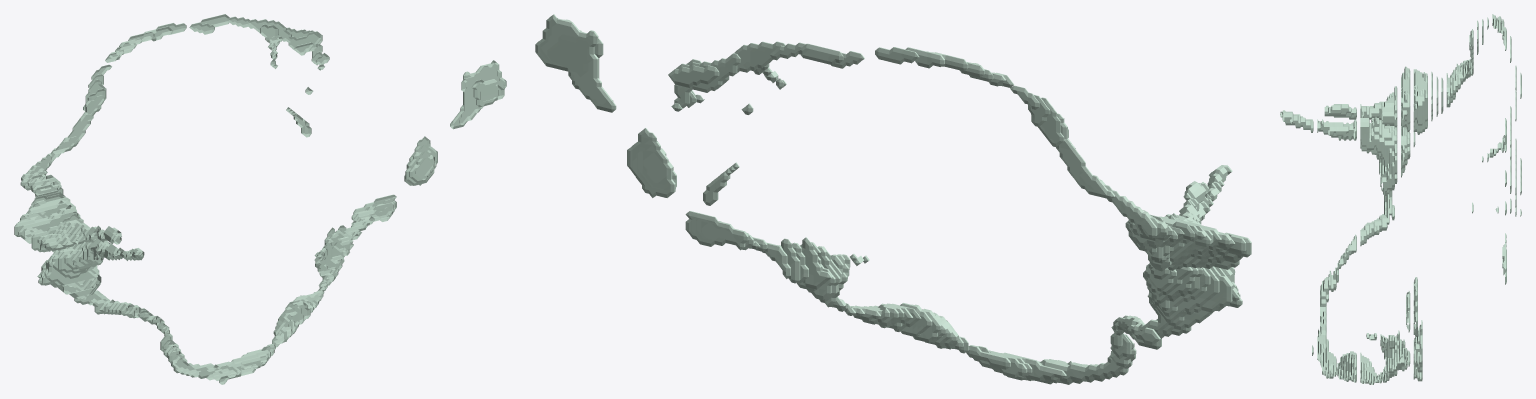
File: SVV_RMER.gltf
3 views of the same model, side by side, from view 1: azimuth 30°, elevation 25°; view 2: azimuth 150°, elevation 25°; view 3: azimuth 270°, elevation 25° (orthographic). The views are drawn at different scales.
Parts seen in each view (by area): view 1: RMER; view 2: RMER; view 3: RMER.
Part boxes in pixels (bbox=[...]): RMER: bbox=[14, 14, 506, 384]; RMER: bbox=[535, 14, 1251, 384]; RMER: bbox=[1280, 14, 1521, 384].
Size of the model in its own units: 99379 by 55346 by 36606.
